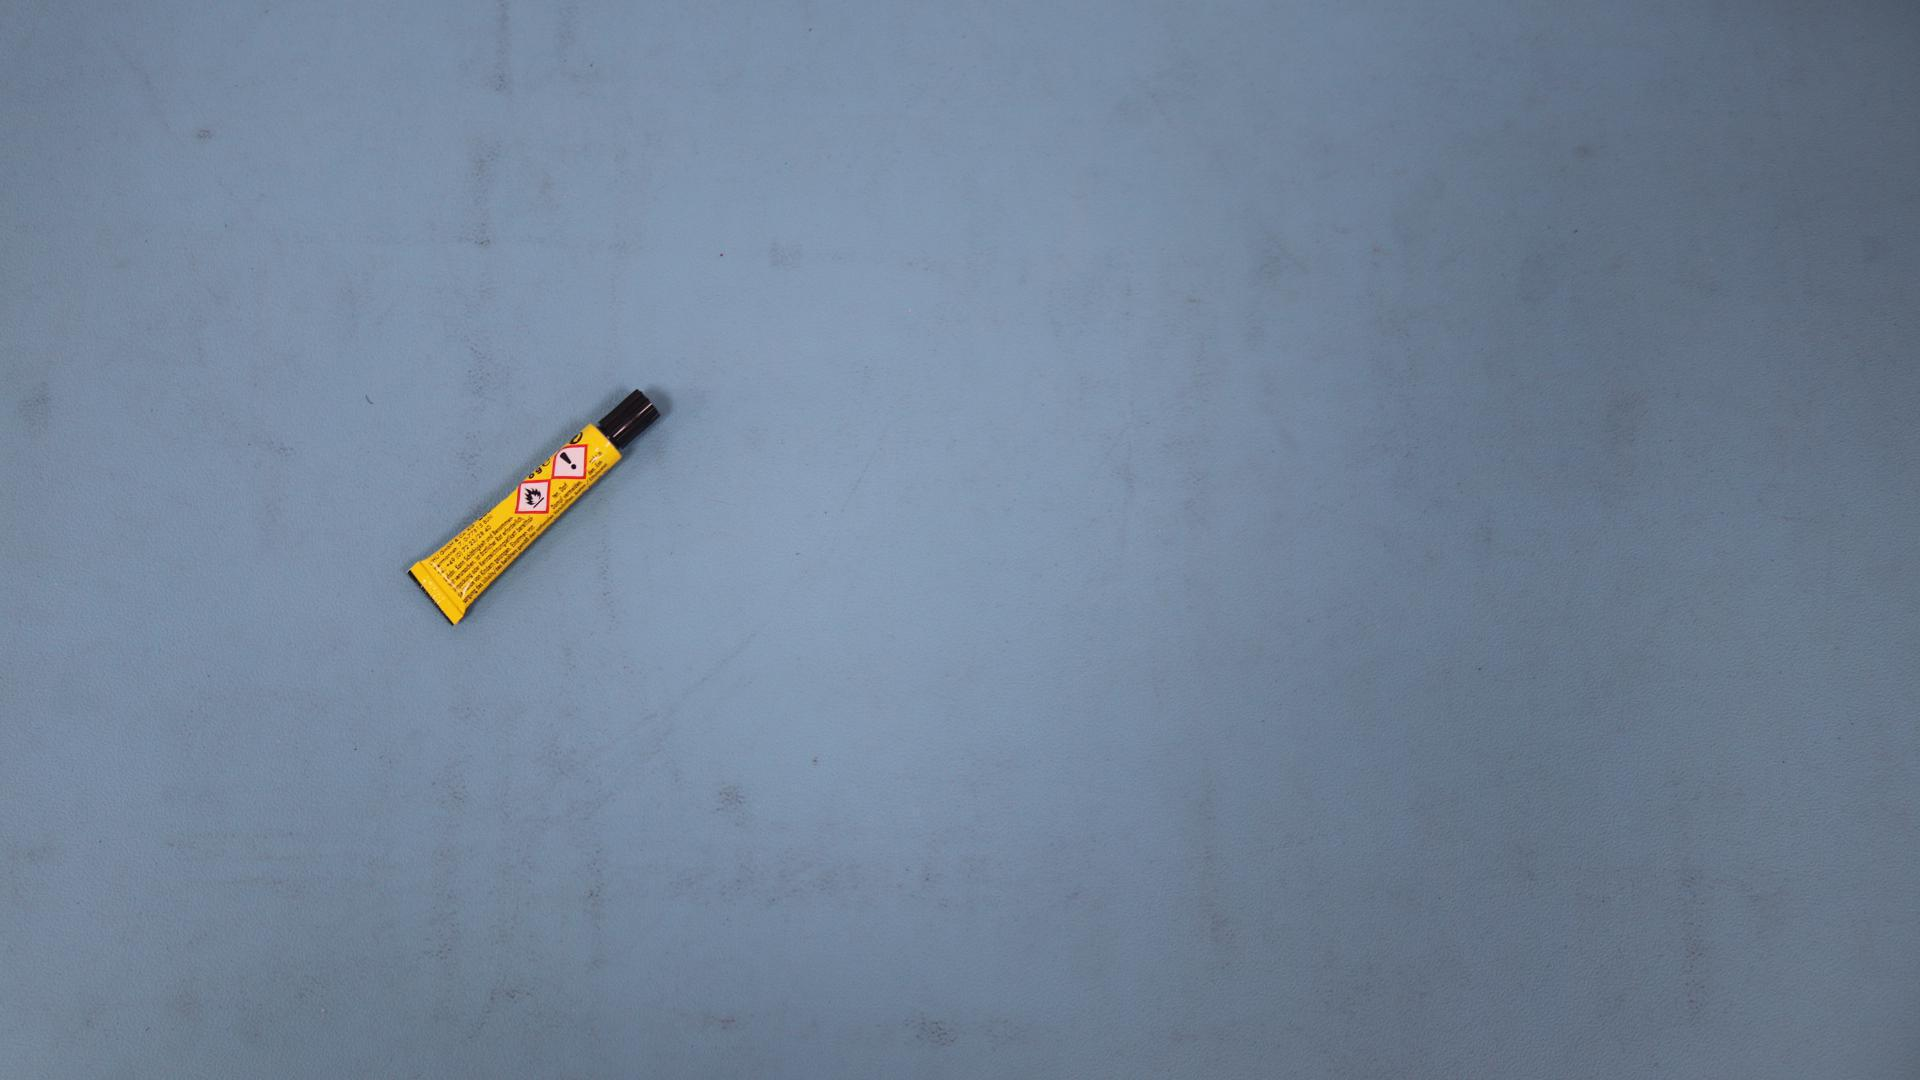Head: (623, 417, 631, 425)
Tail: (433, 592, 441, 600)
Tube: (407, 389, 660, 627)
